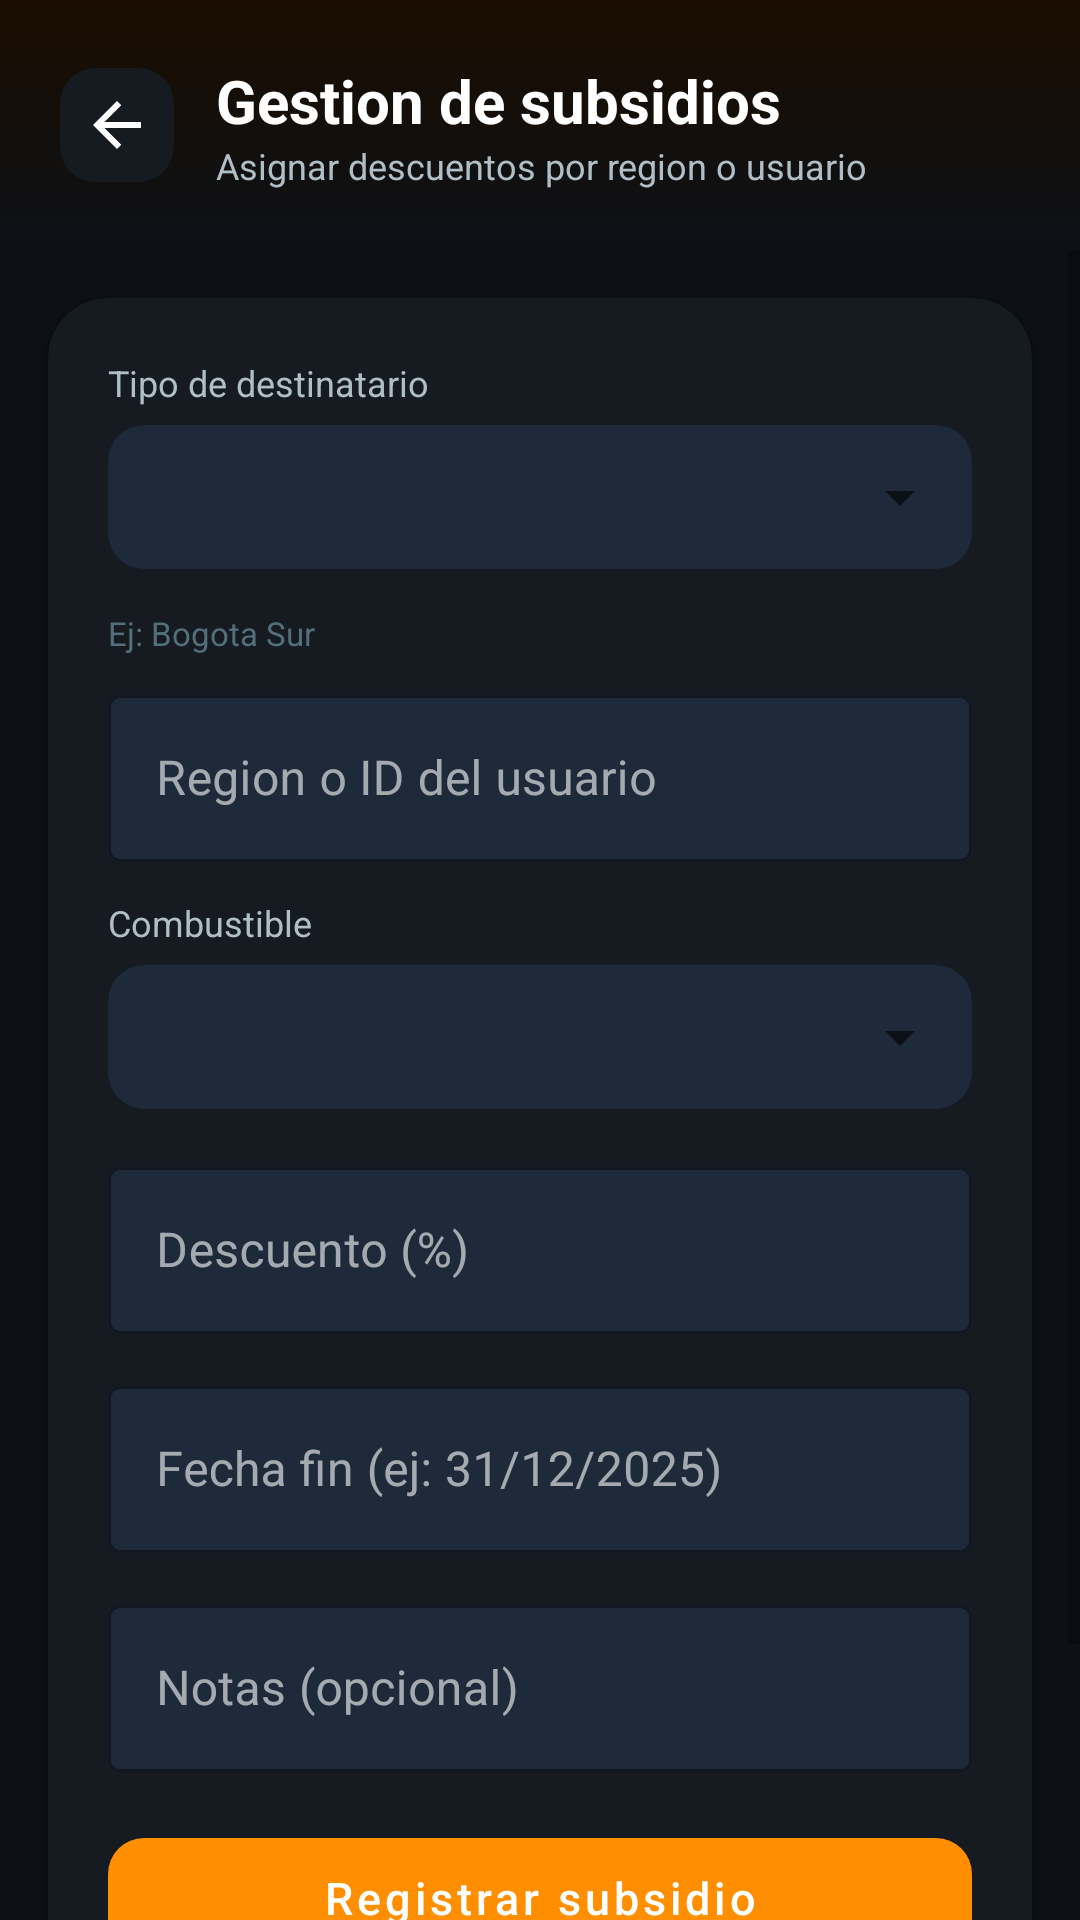

Locate icon controls on the screen. Image size 1080x1920, boxes as (x1, y1, x2, y2).
Volver: (60, 68, 174, 182)
